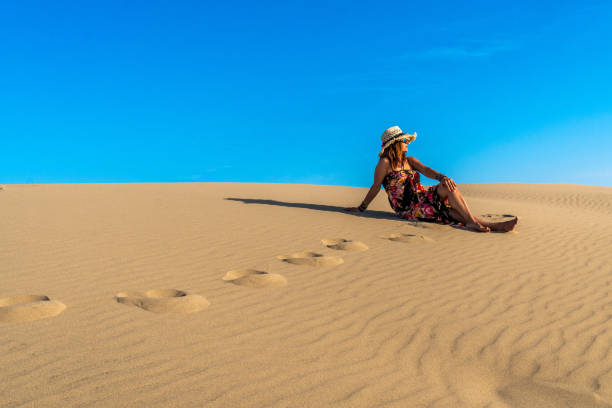human_foot_print: (115, 289, 209, 313), (0, 294, 65, 322), (222, 269, 286, 287), (277, 251, 343, 265), (480, 214, 517, 231), (321, 238, 368, 250), (380, 233, 434, 242)
